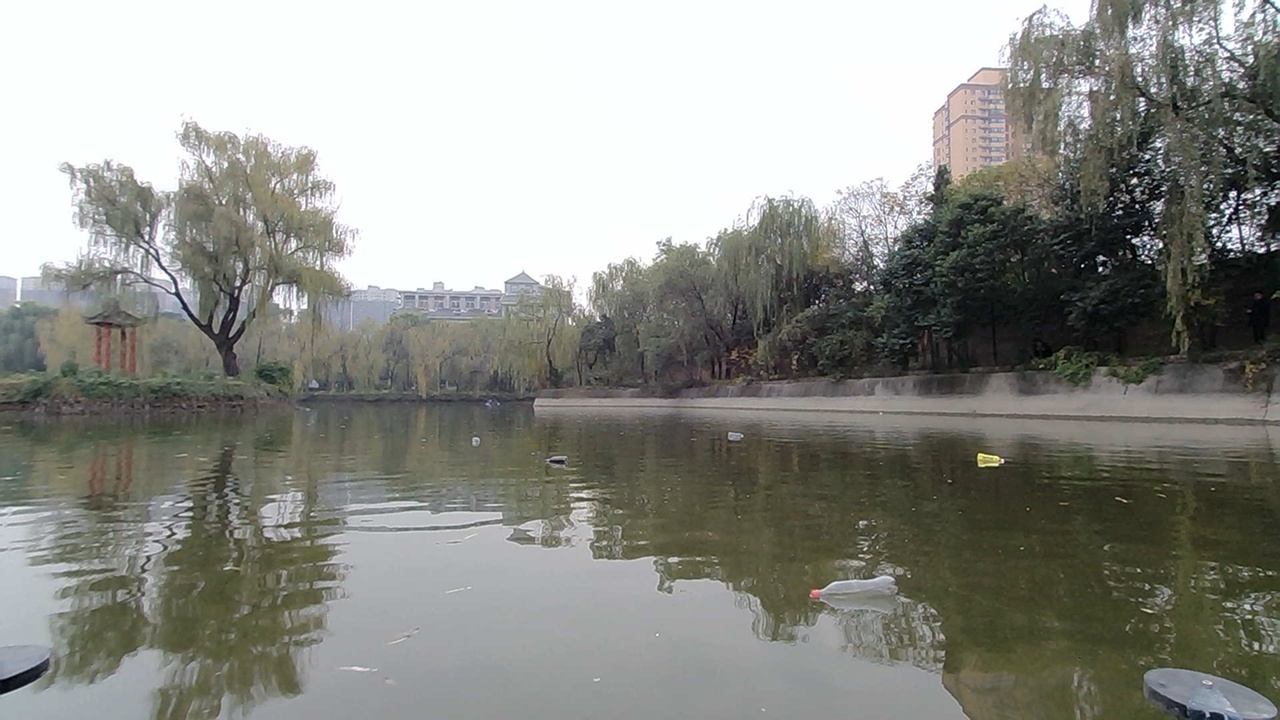bottle: (821, 553, 906, 629), (525, 432, 586, 473), (466, 424, 537, 455), (971, 442, 1004, 476), (721, 420, 758, 443)
